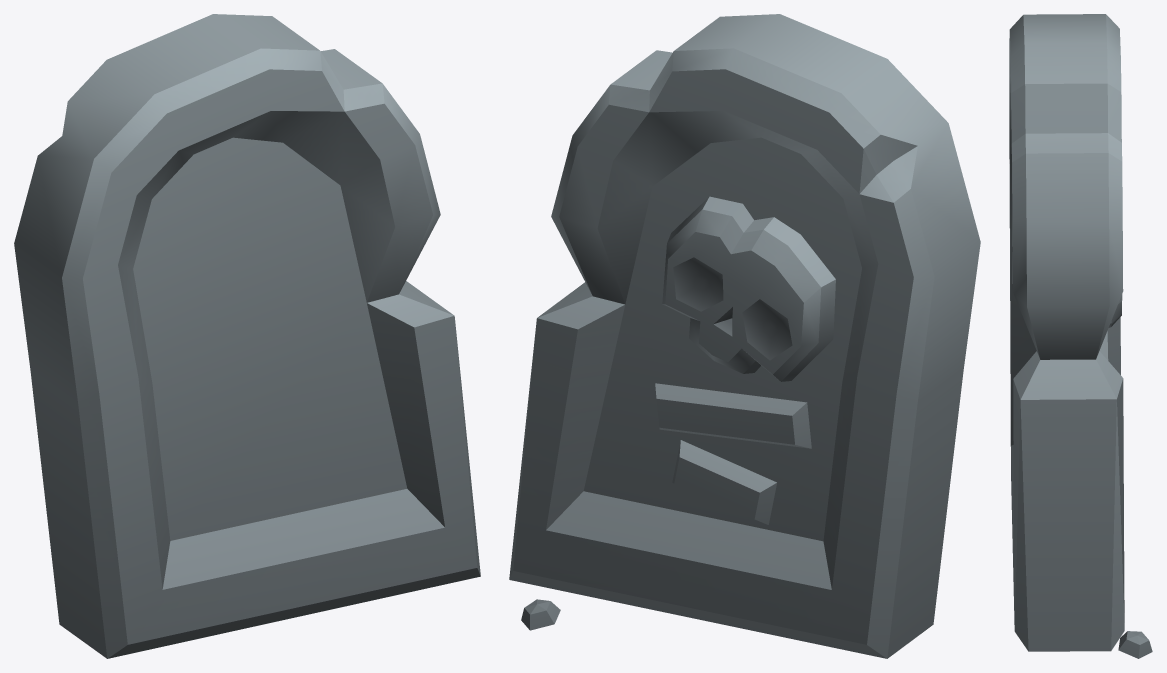
The model's file is Cosmetic_Damaged_Grave.glb.
3 views of the same model, side by side, from view 1: azimuth 30°, elevation 25°; view 2: azimuth 150°, elevation 25°; view 3: azimuth 270°, elevation 25° (orthographic). The views are drawn at different scales.
Parts seen in each view (by area): view 1: Damaged_Grave; view 2: Damaged_Grave; view 3: Damaged_Grave.
Part boxes in pixels (x1,y1,x2,y2): Damaged_Grave: [14, 14, 480, 658]; Damaged_Grave: [509, 14, 980, 658]; Damaged_Grave: [1009, 14, 1152, 658].
Bounding box in the file's own units: 0.3282 × 0.4497 × 0.1097.
Materials: 1 (1 with a texture image).
